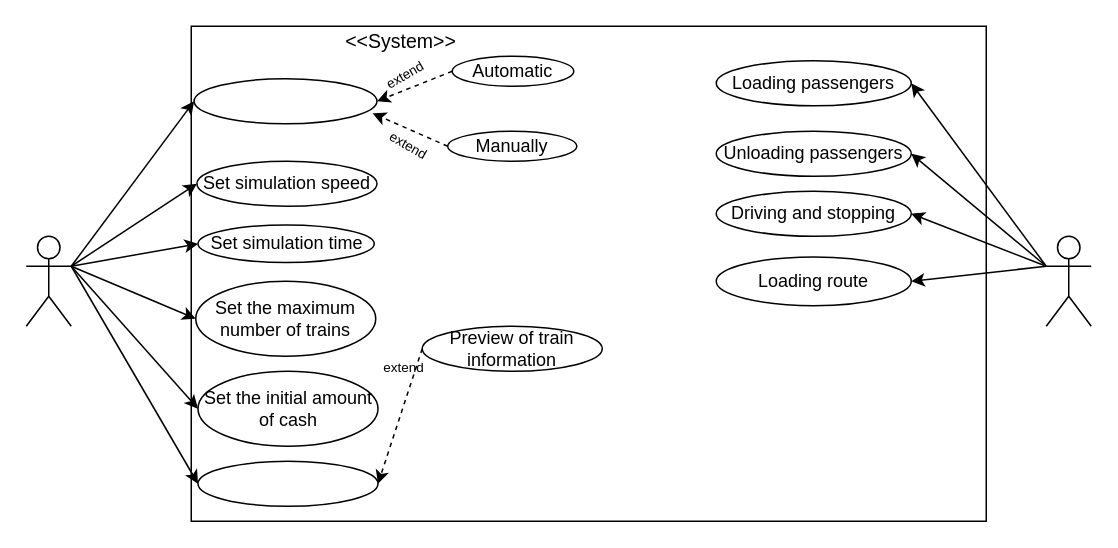
The diagram is 1118 pixels wide and 548 high, and some of its shapes have lost their labels. Here are the shapes that lost their labels. From the top down, the centre of each, then its label:
(x=285, y=100): Set train route
(x=48, y=280): Actor
(x=1068, y=280): Train
(x=287, y=483): Start simulation
